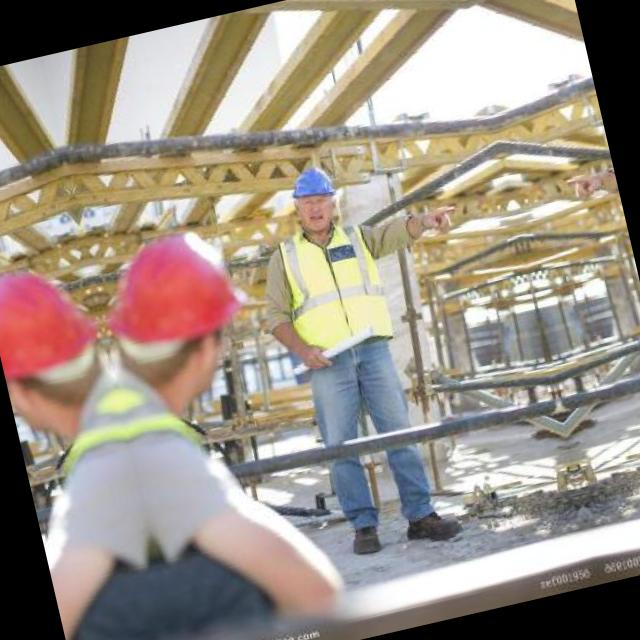helmet: (88, 211, 266, 425), (0, 245, 121, 452), (280, 153, 347, 238)
